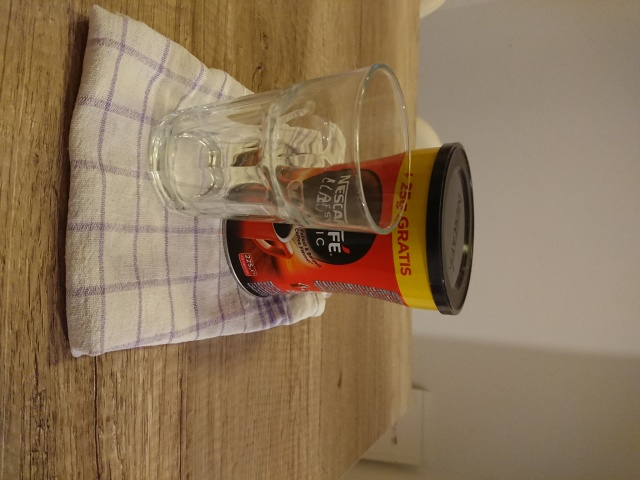Nescafe Classic 225g: (218, 139, 478, 318)
